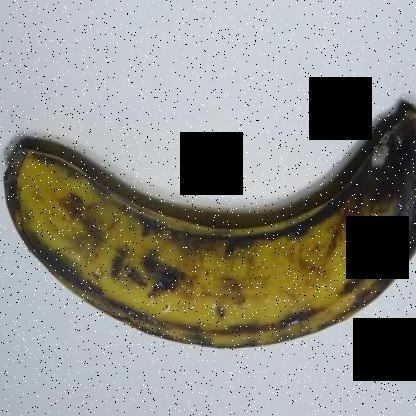overripe: (1, 47, 415, 375)
rotten: (320, 101, 415, 305)
